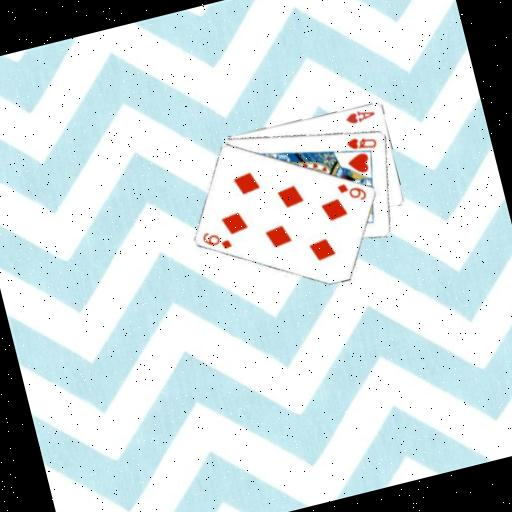6D: (333, 176, 370, 208), (198, 224, 235, 256)
AH: (341, 104, 377, 128)
QH: (342, 130, 379, 156)
